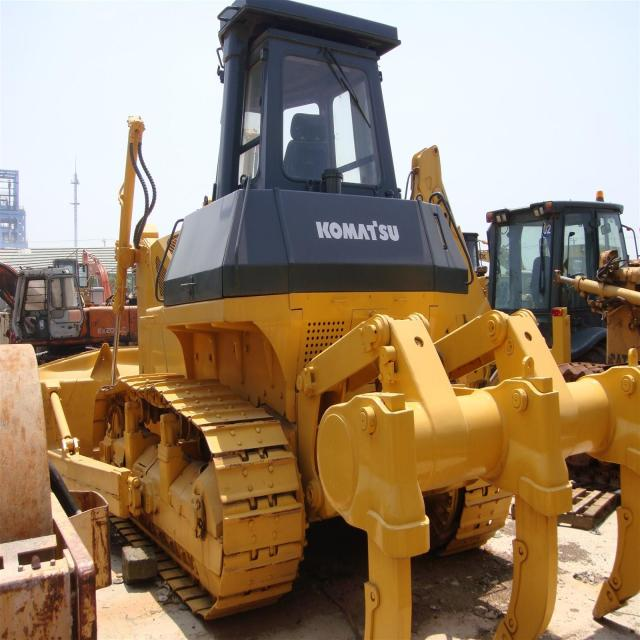buldozerpayloadergrader: (68, 21, 616, 612)
